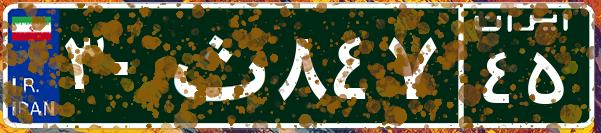0: (110, 28, 158, 105)
3: (57, 26, 110, 107)
4: (330, 28, 385, 110), (475, 38, 525, 113)
5: (525, 38, 570, 115)
7: (385, 28, 445, 110)
8: (273, 28, 330, 110)
ث: (158, 15, 273, 115)
